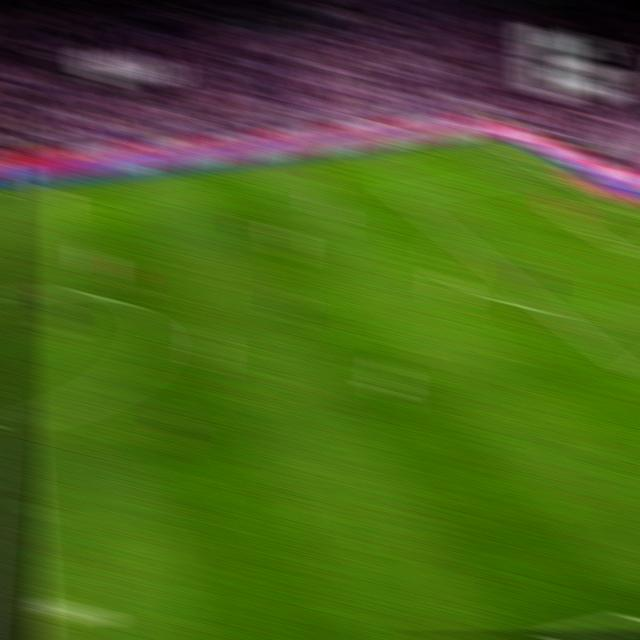bigarea_top_inner: (388, 184, 412, 202)
bigarea_top_outter: (537, 164, 561, 178)
bottom_arc_area_intersection: (536, 300, 560, 318)
corner: (472, 132, 497, 144)
halfcircle_bottom: (5, 406, 28, 434)
top_arc_area_intersection: (444, 228, 470, 248)
